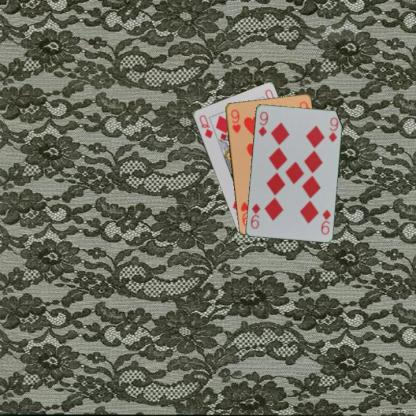9d: (256, 108, 270, 138), (318, 207, 332, 236)
9h: (228, 107, 242, 135)
Qd: (196, 112, 214, 140)
